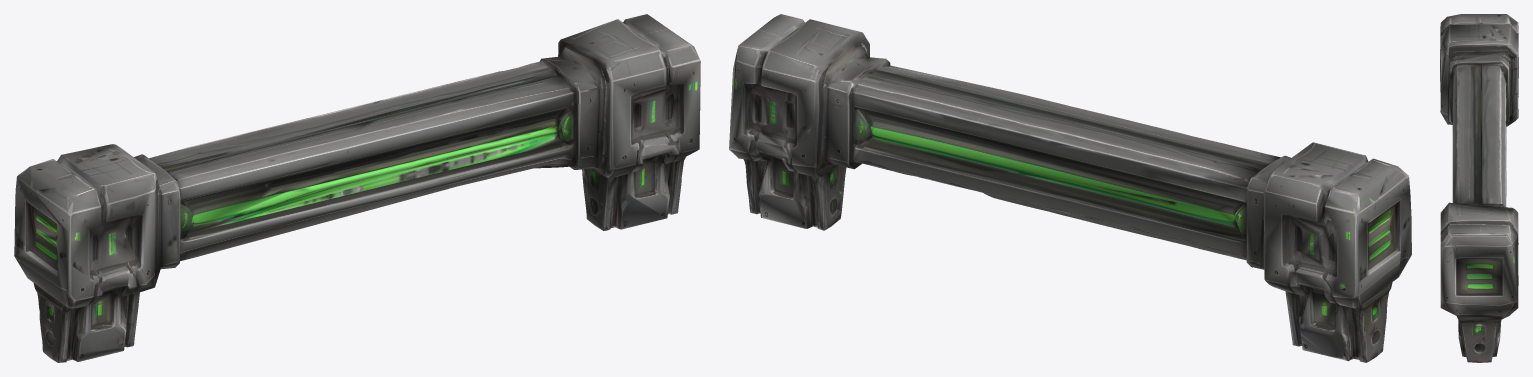
Rendered from green-beam.glb.
3 renders of one model, left to right at view 1: azimuth 30°, elevation 25°; view 2: azimuth 150°, elevation 25°; view 3: azimuth 270°, elevation 25°, orthographic. The views are drawn at different scales.
Parts seen in each view (by area): view 1: material; view 2: material; view 3: material.
Boxes of the visible parts, x1=… form: material: x1=14, y1=14, x2=700, y2=362; material: x1=729, y1=14, x2=1411, y2=362; material: x1=1440, y1=14, x2=1518, y2=362.
Size of the model in its own units: 1.16 by 0.315 by 0.1718.
Materials: 1 (1 with a texture image).
